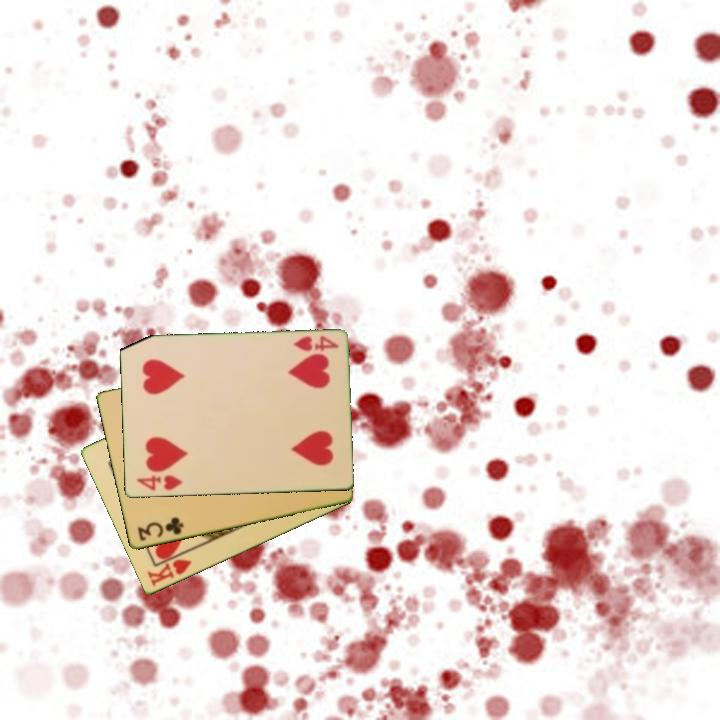3c: (134, 514, 186, 544)
4h: (132, 472, 185, 494), (290, 333, 341, 354)
Kh: (143, 548, 195, 589)
